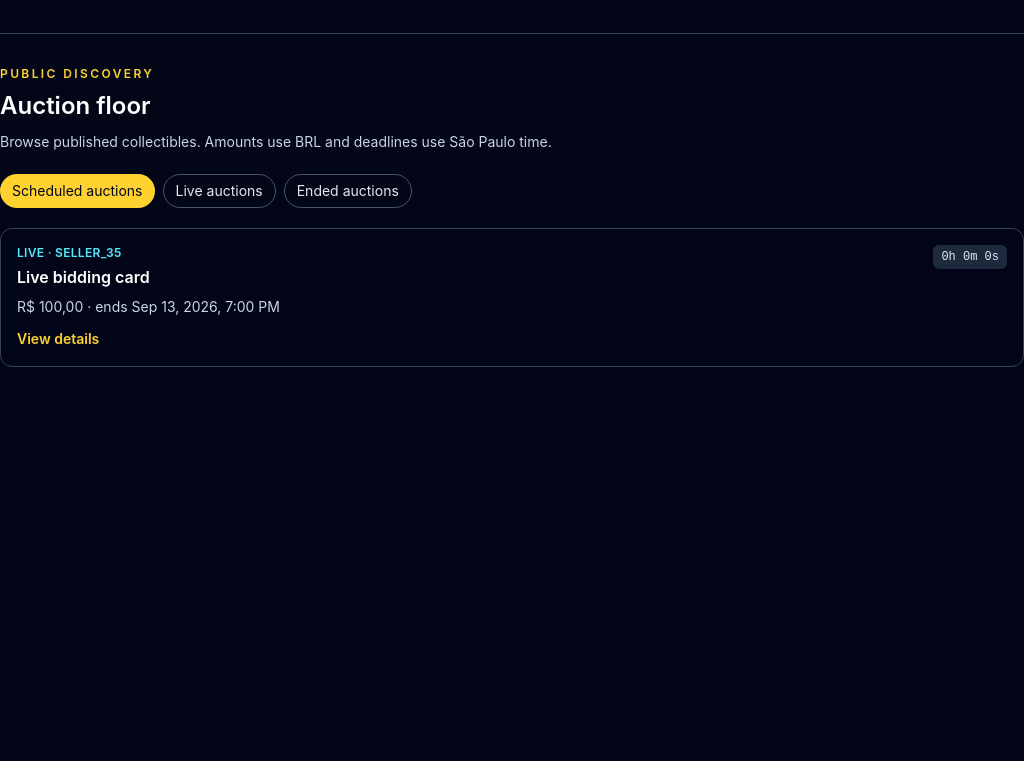
it: PublicAuctionBrowser bidding › shows the public final outcome without exposing a winning bidder handle
Click the tab "Live auctions".
click(219, 191)  # box x1=162 y1=174 x2=276 y2=208
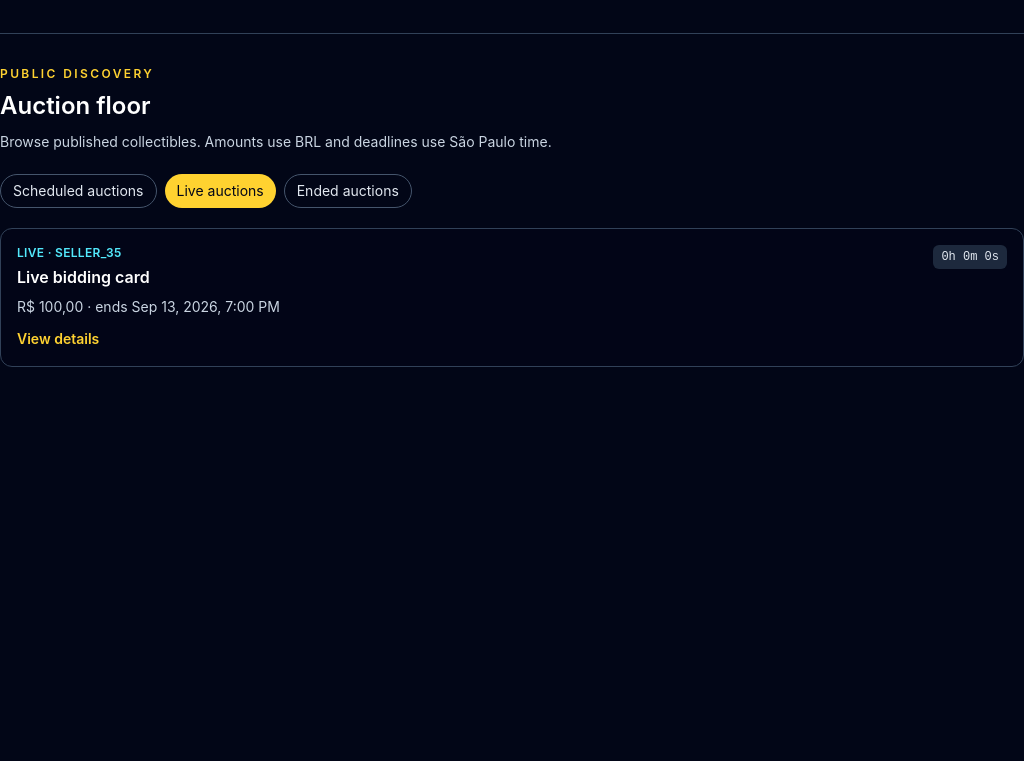
Click the button with aria-label "View Live bidding card".
click(58, 339)  # box x1=17 y1=329 x2=99 y2=349
(page scrolled)
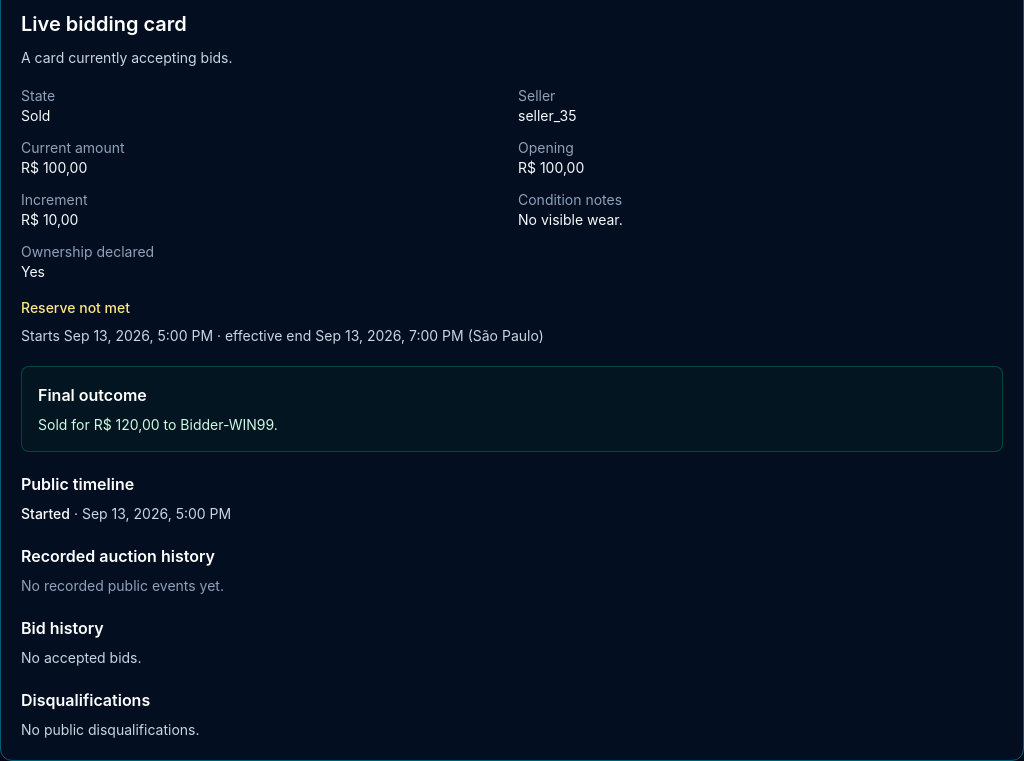
expect the heading "Final outcome" is shown: met, box x1=38 y1=385 x2=147 y2=405
expect the text "Sold for R$ 120,00 to Bidder-WIN99." is shown: met, box x1=38 y1=416 x2=278 y2=433
